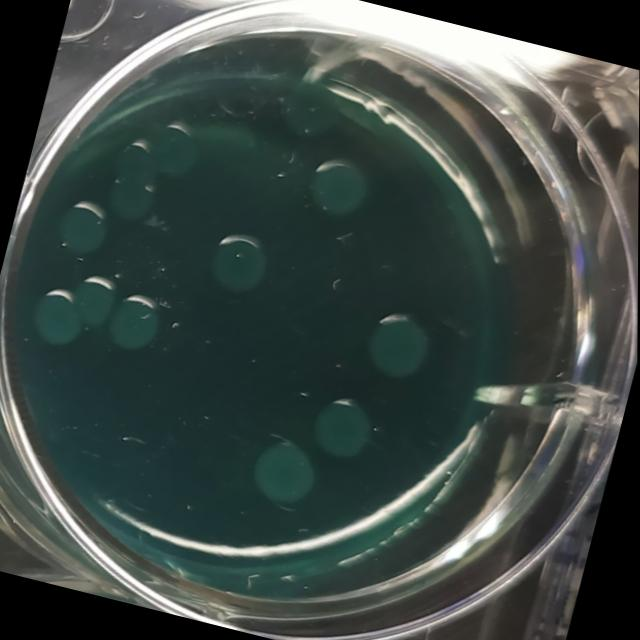other: (359, 304, 445, 391), (100, 133, 171, 230), (299, 148, 379, 226), (304, 388, 382, 467), (242, 434, 324, 508), (277, 70, 351, 148), (202, 226, 275, 302), (50, 194, 118, 264), (24, 283, 91, 354), (103, 288, 168, 355), (141, 120, 206, 184), (62, 267, 125, 330)
